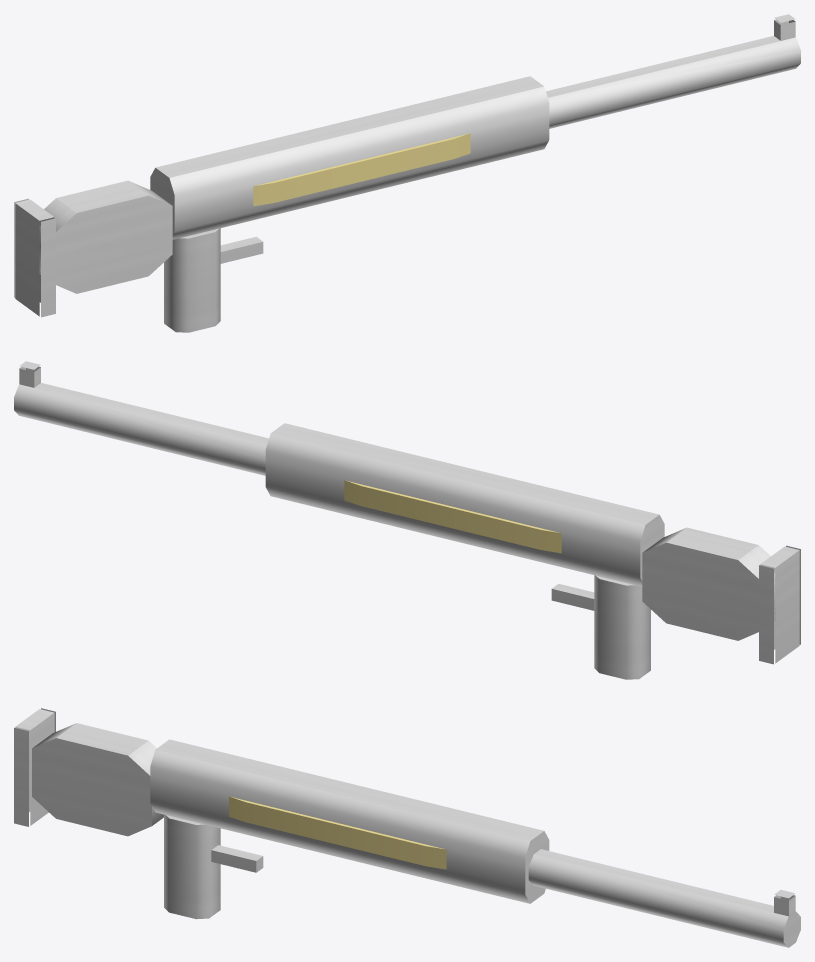
File: charge_lance.obj
3 renders of one model, top to bottom at view 1: azimuth 30°, elevation 25°; view 2: azimuth 150°, elevation 25°; view 3: azimuth 330°, elevation 25°, orthographic.
Visible parts, largest first — view 1: receiver, stock_or_grip, barrel_muzzle, grip_or_magazine, magazine_or_foregrip, butt_or_trigger, trigger_bridge; view 2: receiver, stock_or_grip, barrel_muzzle, grip_or_magazine, magazine_or_foregrip, butt_or_trigger, trigger_bridge; view 3: receiver, stock_or_grip, barrel_muzzle, grip_or_magazine, magazine_or_foregrip, butt_or_trigger, trigger_bridge, front_sight.
Part boxes in pixels (<box>): receiver: <box>150,76,549,239</box>; stock_or_grip: <box>39,180,172,293</box>; barrel_muzzle: <box>546,36,800,128</box>; grip_or_magazine: <box>164,228,220,332</box>; magazine_or_foregrip: <box>253,133,470,206</box>; butt_or_trigger: <box>14,198,55,317</box>; trigger_bridge: <box>220,236,263,263</box>; receiver: <box>265,423,664,586</box>; stock_or_grip: <box>642,527,775,640</box>; barrel_muzzle: <box>14,383,268,475</box>; grip_or_magazine: <box>594,575,650,679</box>; magazine_or_foregrip: <box>344,480,561,553</box>; butt_or_trigger: <box>759,545,800,664</box>; trigger_bridge: <box>551,583,594,610</box>; receiver: <box>150,739,549,903</box>; stock_or_grip: <box>32,723,163,836</box>; barrel_muzzle: <box>528,849,800,947</box>; grip_or_magazine: <box>164,814,220,919</box>; magazine_or_foregrip: <box>229,796,446,869</box>; butt_or_trigger: <box>14,708,55,826</box>; trigger_bridge: <box>211,845,263,872</box>; front_sight: <box>774,890,795,916</box>.
Bounding box in the file's own units: 1.02 × 0.203 × 0.064.
